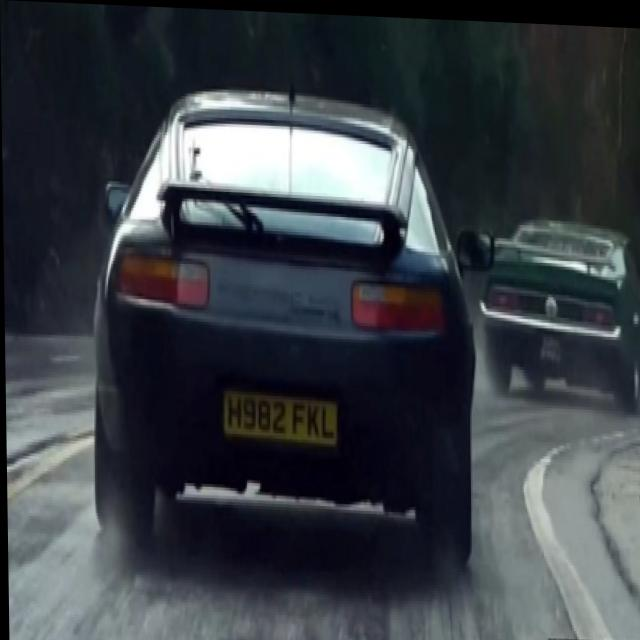licence: (220, 386, 339, 444)
